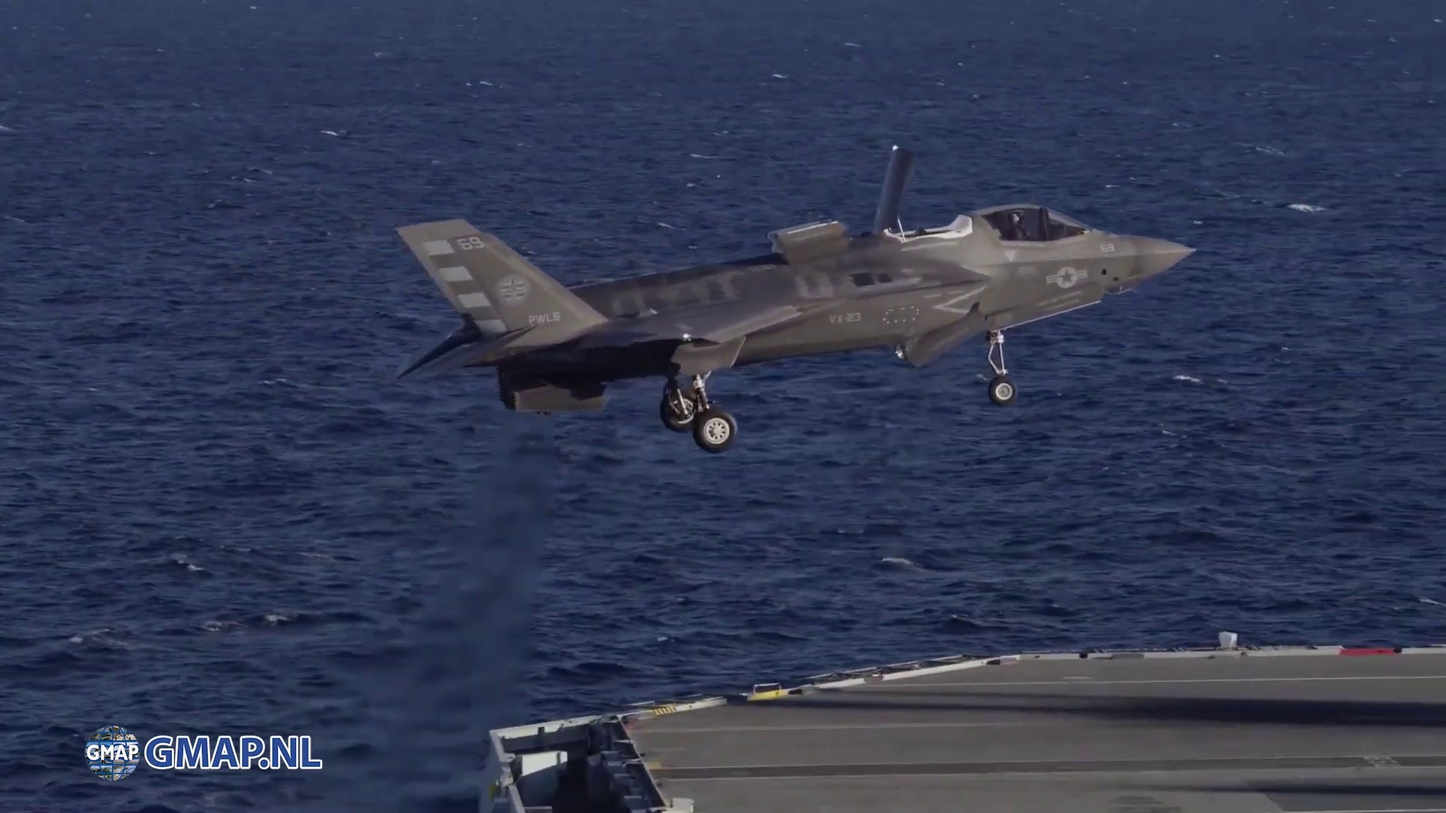F35: (418, 144, 1189, 455)
